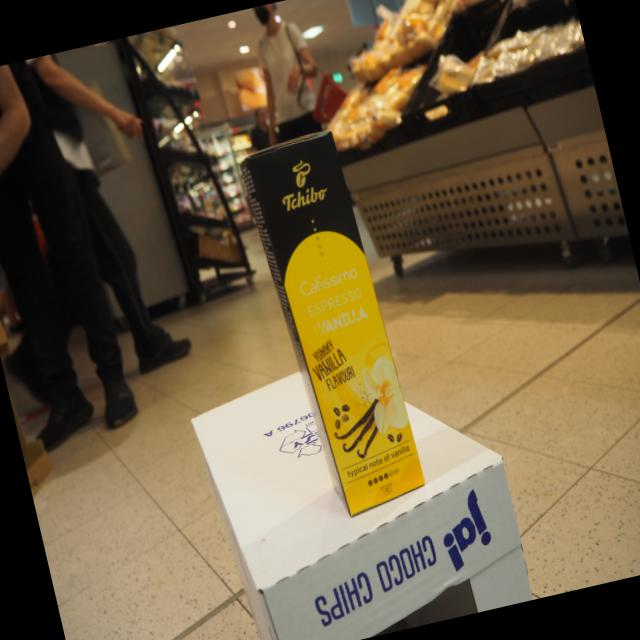Simo Es Vanilla: (244, 127, 426, 518)
